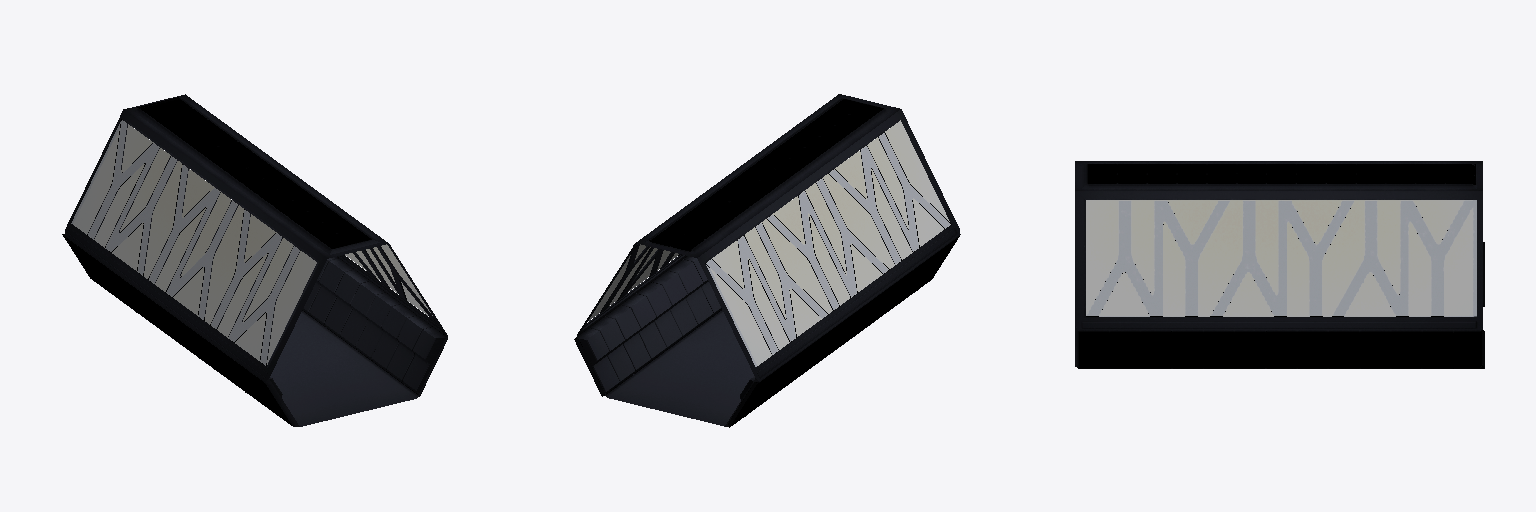
3 views of the same model, side by side, from view 1: azimuth 30°, elevation 25°; view 2: azimuth 150°, elevation 25°; view 3: azimuth 270°, elevation 25° (orthographic).
Parts seen in each view (by area): view 1: Cylinder002; view 2: Cylinder002; view 3: Cylinder002.
Boxes of the visible parts, x1=… form: Cylinder002: x1=62, y1=94, x2=447, y2=426; Cylinder002: x1=574, y1=94, x2=960, y2=427; Cylinder002: x1=1075, y1=161, x2=1484, y2=368.
Bounding box in the file's own units: 4.15 × 3.55 × 8.03.
Materials: 1 (1 with a texture image).